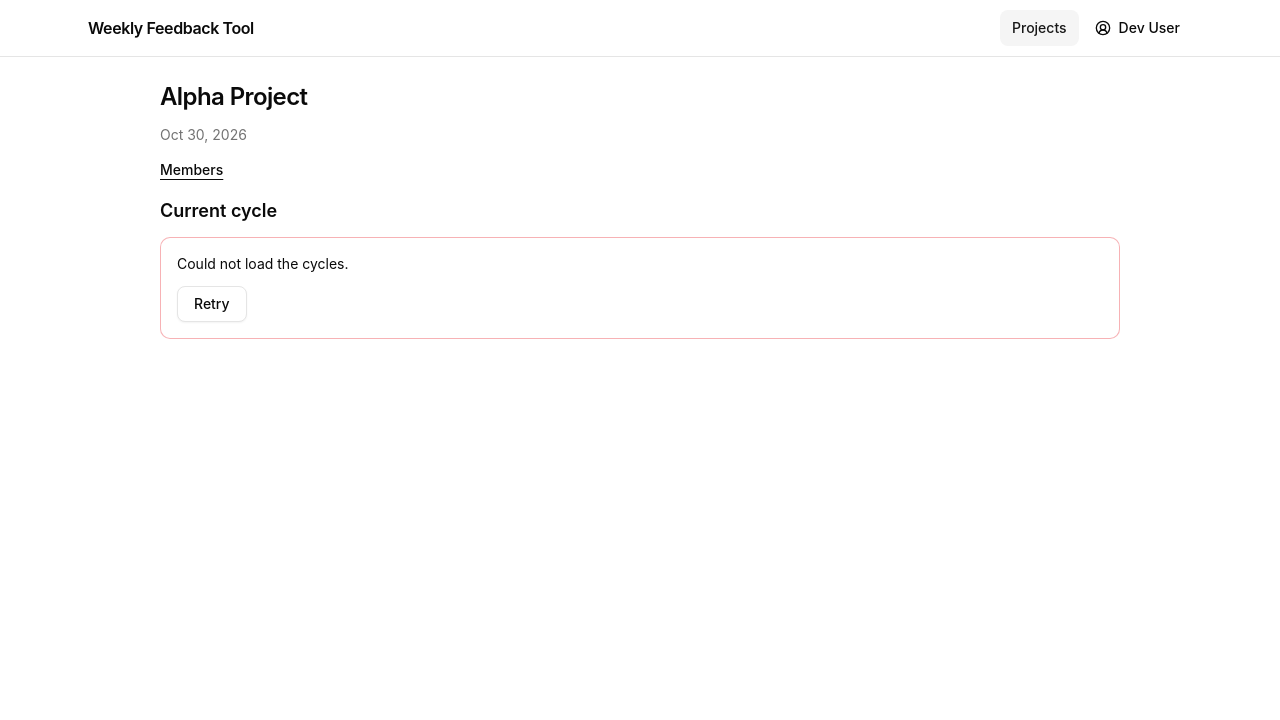
Test: ProjectPage cycles › shows an alert with Retry when the cycles query fails, keeping the project visible
Expected: the message shows "Could not load the cycles.", left=177, top=255, right=348, bottom=272
Expected: the heading "Alpha Project" is shown, left=160, top=82, right=308, bottom=111
Click the button "Retry".
click(212, 304)  # box left=177, top=286, right=247, bottom=322
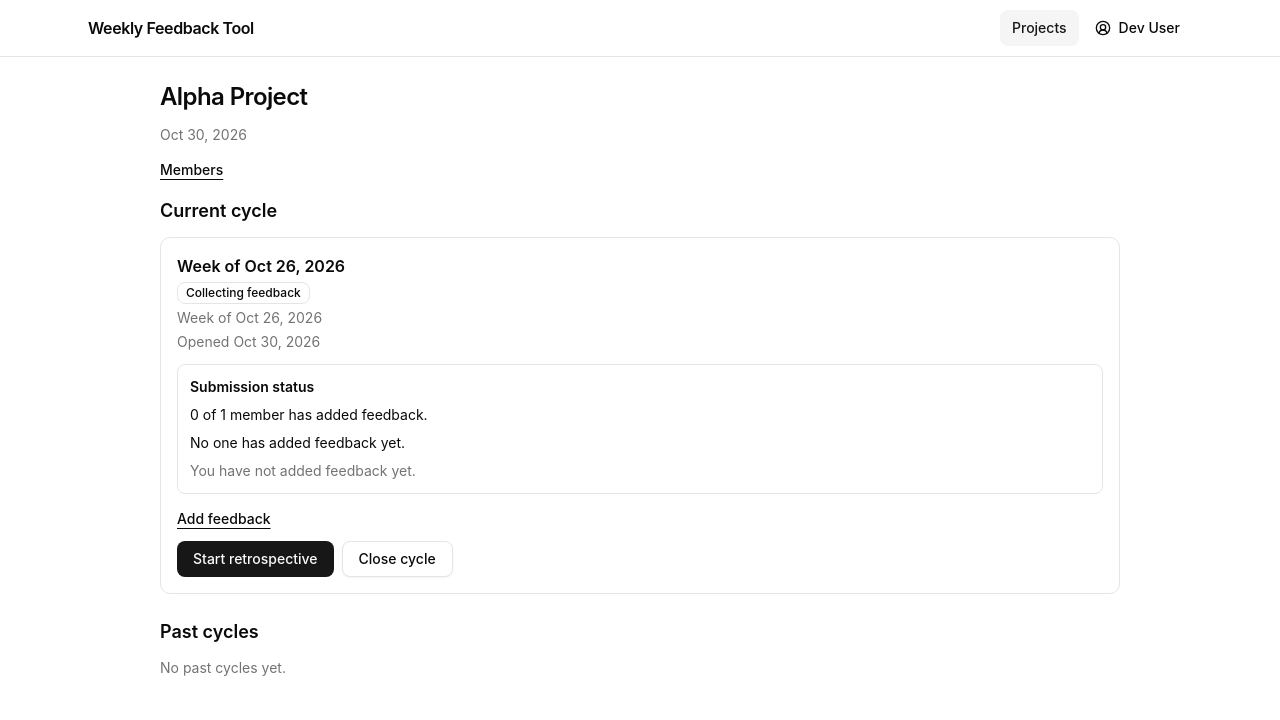
Expected: the heading "Week of Oct 26, 2026" is shown, left=177, top=256, right=345, bottom=276
Expected: the message "Could not load the cycles. Retry" is gone
